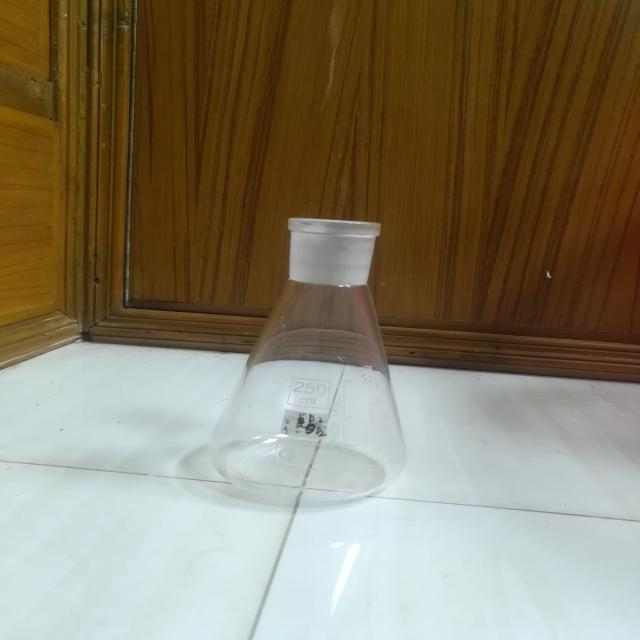Conical_Flask: (183, 179, 451, 532)
